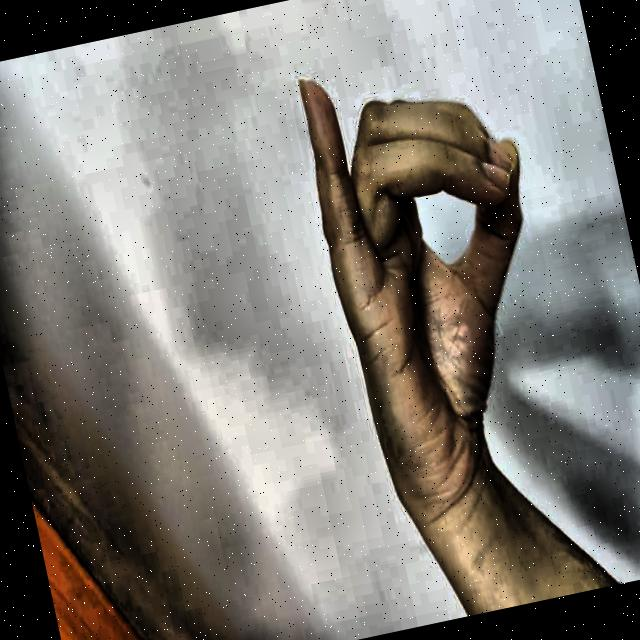Ou: (264, 4, 606, 542)
